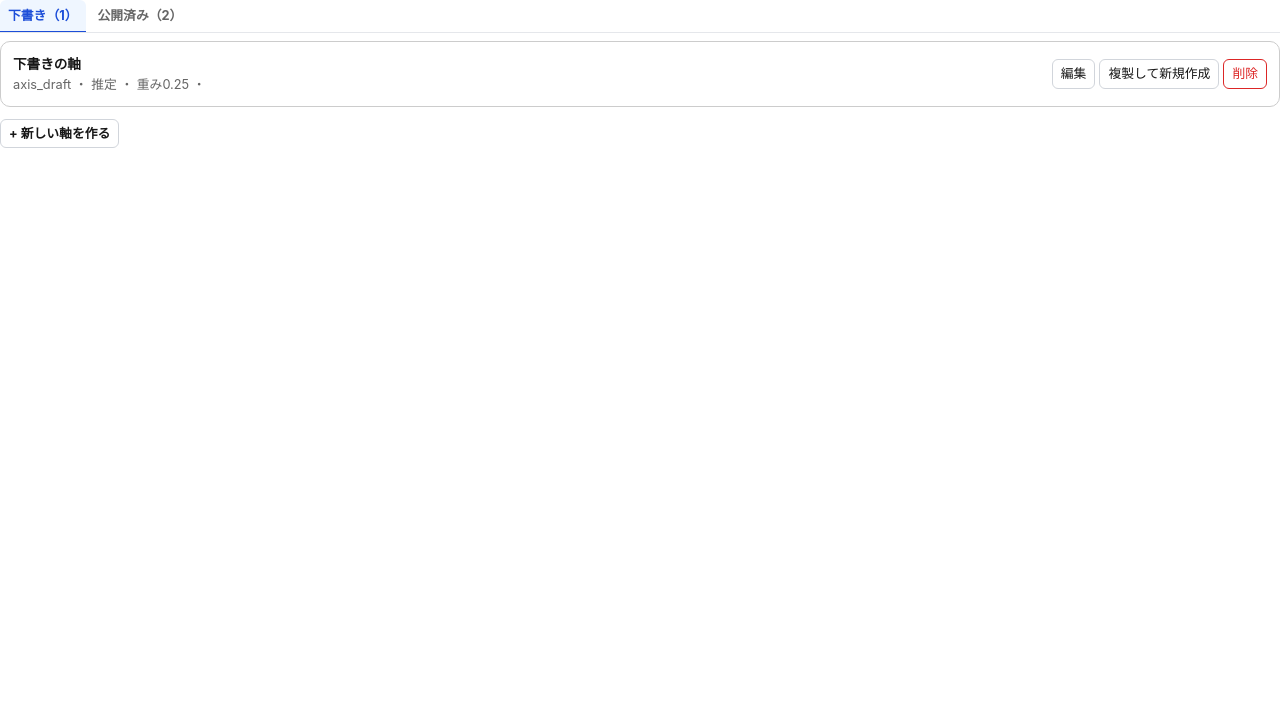
Scenario: 公開済みの軸を「調整する」 › 保存すると公開へ戻して更新し、下書きのままだとは言わない
Click the tab "公開済み（2）" at (140, 17), box [90, 0, 190, 33]
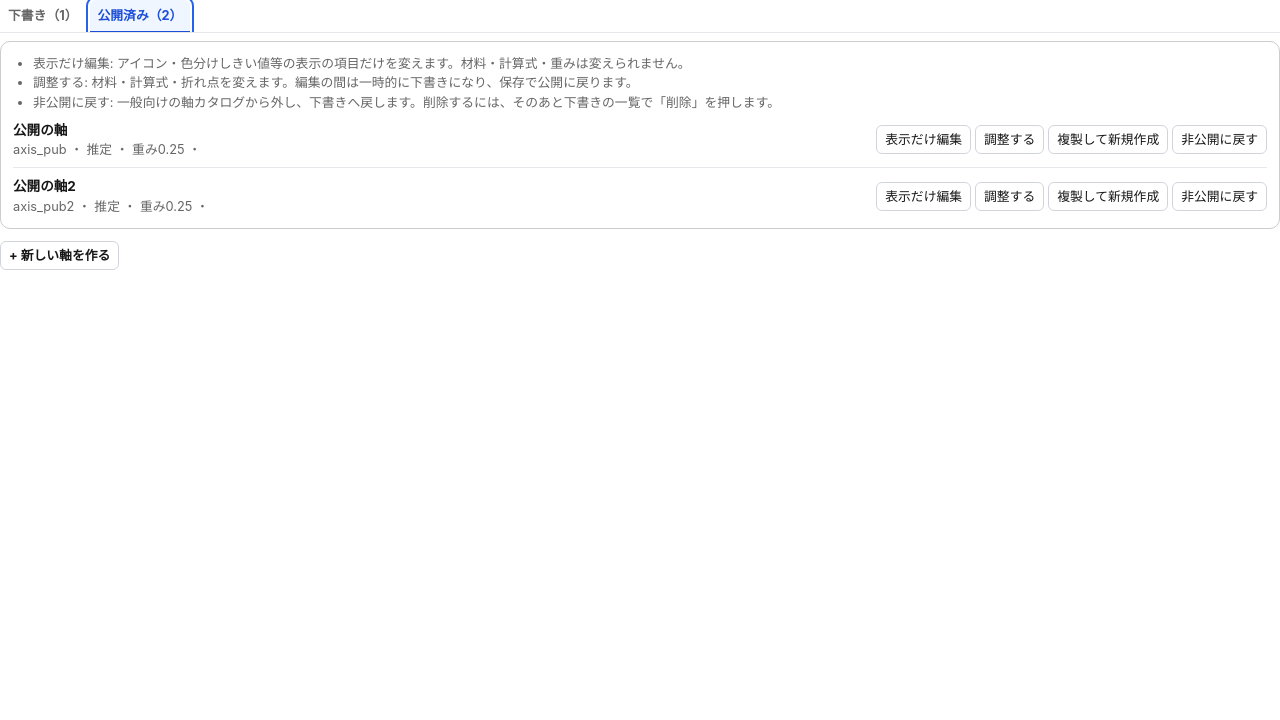
Click the 1st button "調整する" at (1010, 140), box [975, 125, 1044, 154]
(page scrolled)
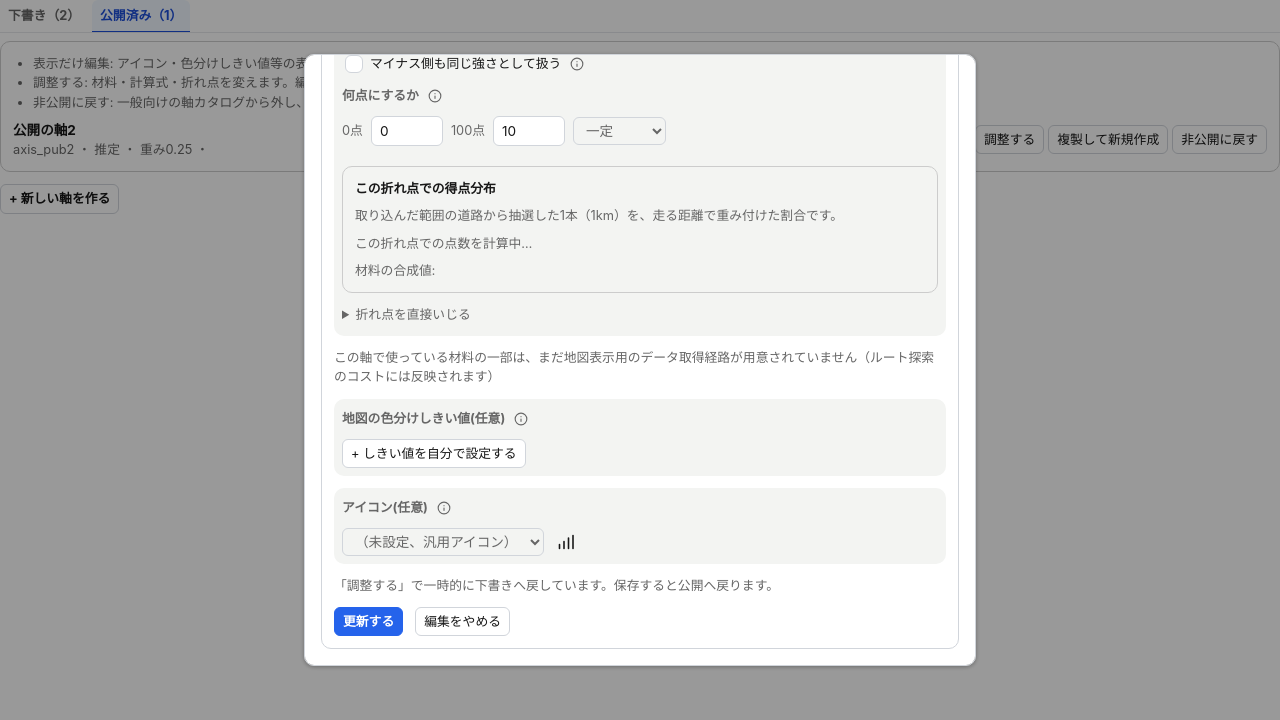
Expected: the text "「調整する」で一時的に下書きへ戻しています。保存すると公開へ戻ります。" is shown, [334, 578, 779, 593]
Click the button "更新する" at (369, 622), box [334, 607, 403, 636]
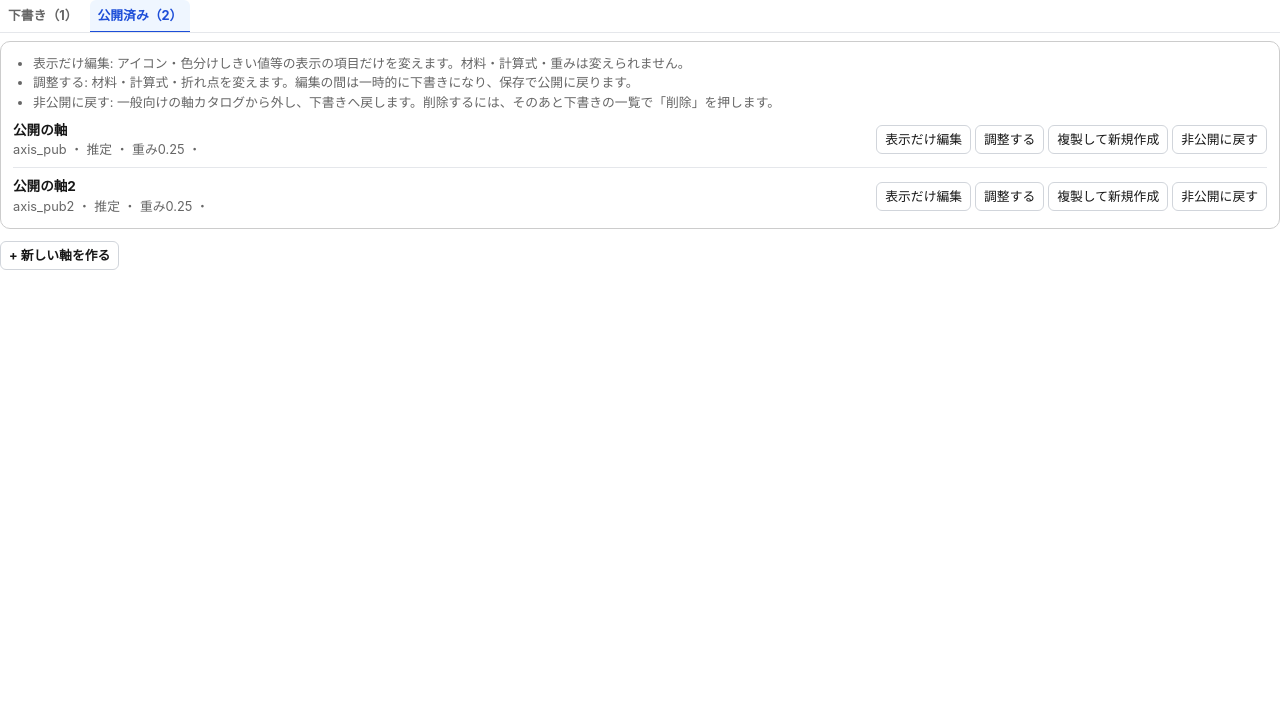
Expected: the dialog is gone
